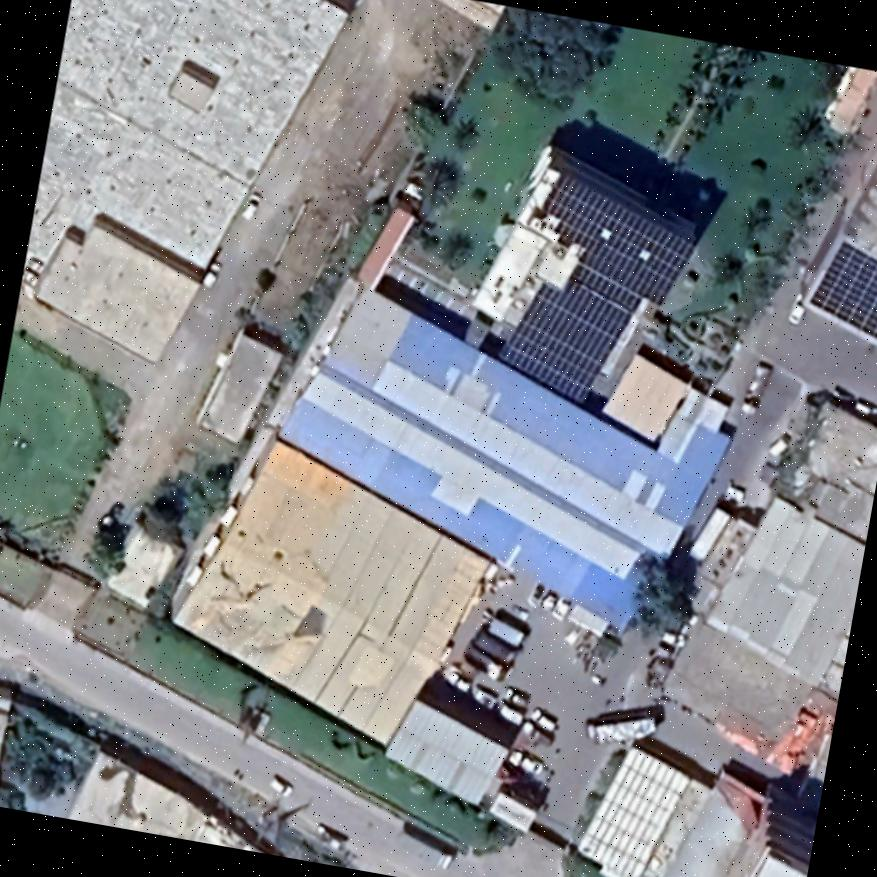Solarpanel: (484, 166, 702, 412), (798, 233, 877, 347)
